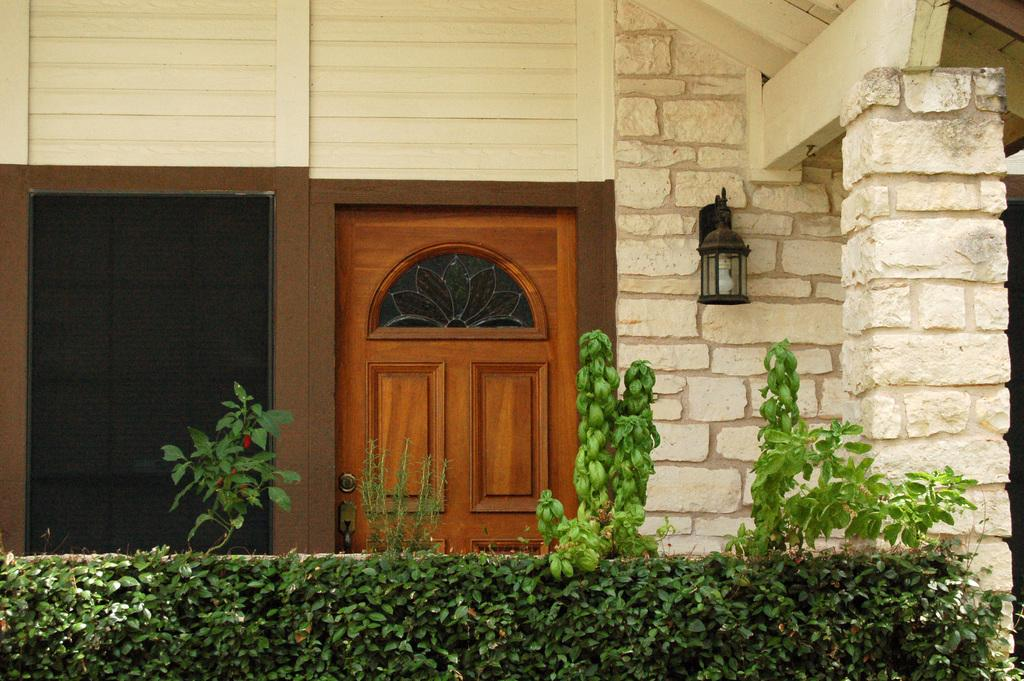handle: (340, 503, 354, 547)
